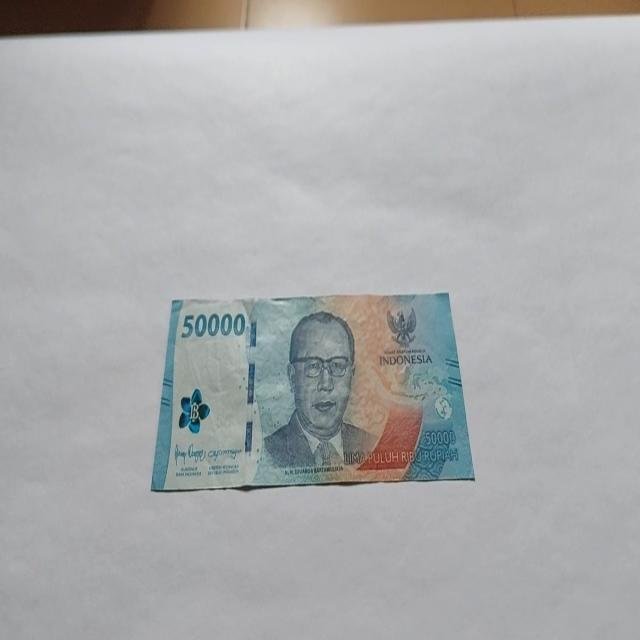lima puluh ribu rupiah: (150, 290, 475, 492), (260, 308, 380, 474)
